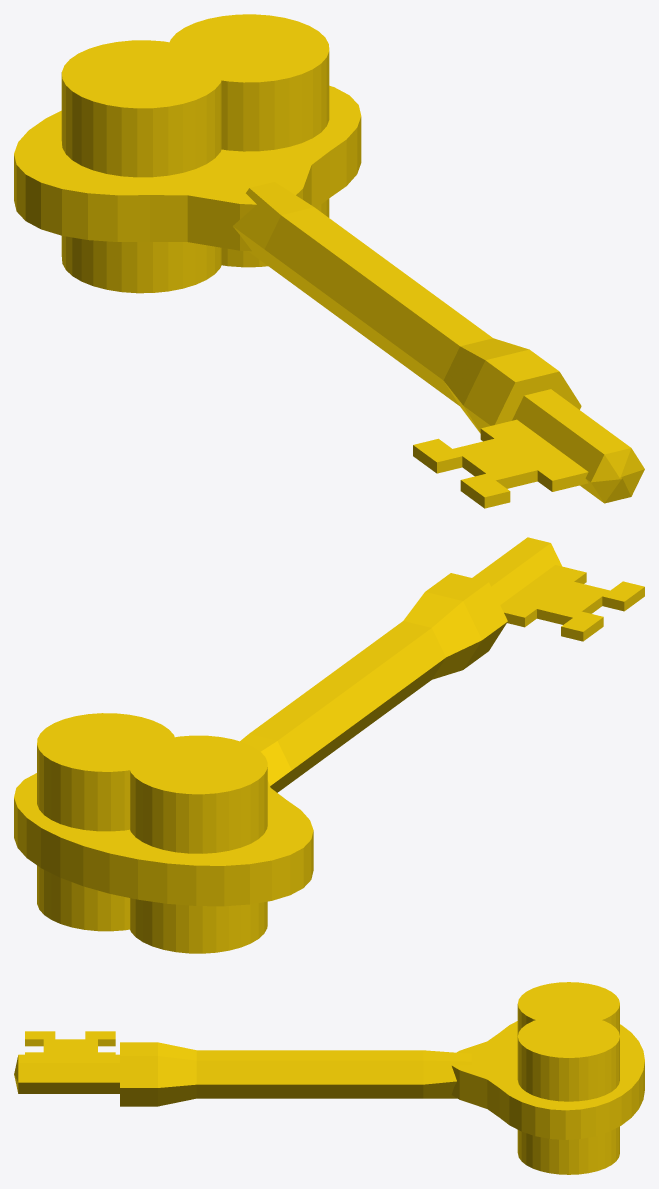
File: key.gltf
3 renders of one model, top to bottom at view 1: azimuth 30°, elevation 25°; view 2: azimuth 150°, elevation 25°; view 3: azimuth 270°, elevation 25°, orthographic. The views are drawn at different scales.
Parts seen in each view (by area): view 1: Cylinder, Cylinder.002, Cylinder.003, Cube; view 2: Cylinder, Cylinder.002, Cylinder.003, Cube; view 3: Cylinder.002, Cylinder, Cylinder.003, Cube.
Part boxes in pixels (left/top/right/bottom): Cylinder: left=61, top=14, right=329, bottom=293; Cylinder.002: left=233, top=182, right=644, bottom=503; Cylinder.003: left=14, top=85, right=361, bottom=251; Cube: left=413, top=419, right=588, bottom=508; Cylinder: left=37, top=713, right=267, bottom=953; Cylinder.002: left=240, top=537, right=562, bottom=792; Cylinder.003: left=14, top=773, right=313, bottom=906; Cube: left=500, top=565, right=644, bottom=641; Cylinder.002: left=14, top=1042, right=471, bottom=1106; Cylinder: left=517, top=982, right=619, bottom=1174; Cylinder.003: left=451, top=1021, right=644, bottom=1139; Cube: left=25, top=1031, right=115, bottom=1054.
Bounding box in the file's own units: 3.99 × 2.18 × 10.65.
